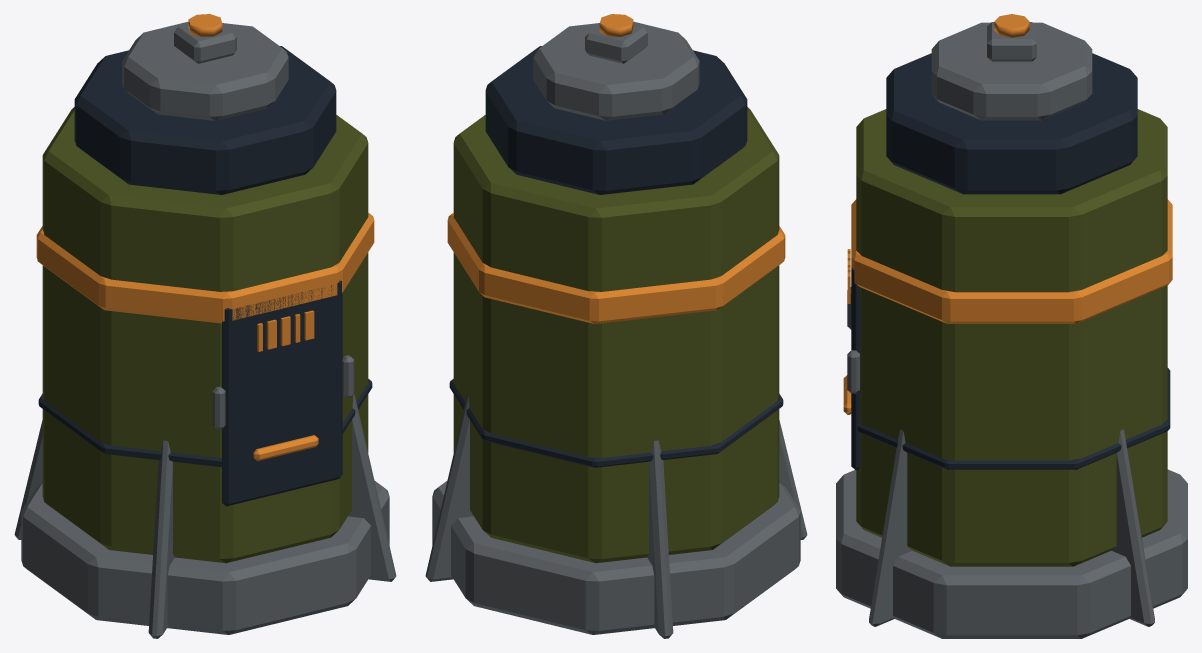
Rendered from supply_drop_pod.obj.
3 renders of one model, left to right at view 1: azimuth 30°, elevation 25°; view 2: azimuth 150°, elevation 25°; view 3: azimuth 270°, elevation 25°, orthographic.
Parts seen in each view (by area): view 1: supply_drop_pod; view 2: supply_drop_pod; view 3: supply_drop_pod.
Boxes of the visible parts, x1,y1,x2,y2 form: supply_drop_pod: (14, 14, 396, 638); supply_drop_pod: (425, 14, 807, 638); supply_drop_pod: (836, 14, 1187, 638).
Bounding box in the file's own units: 1.4 × 2.4 × 1.4.
